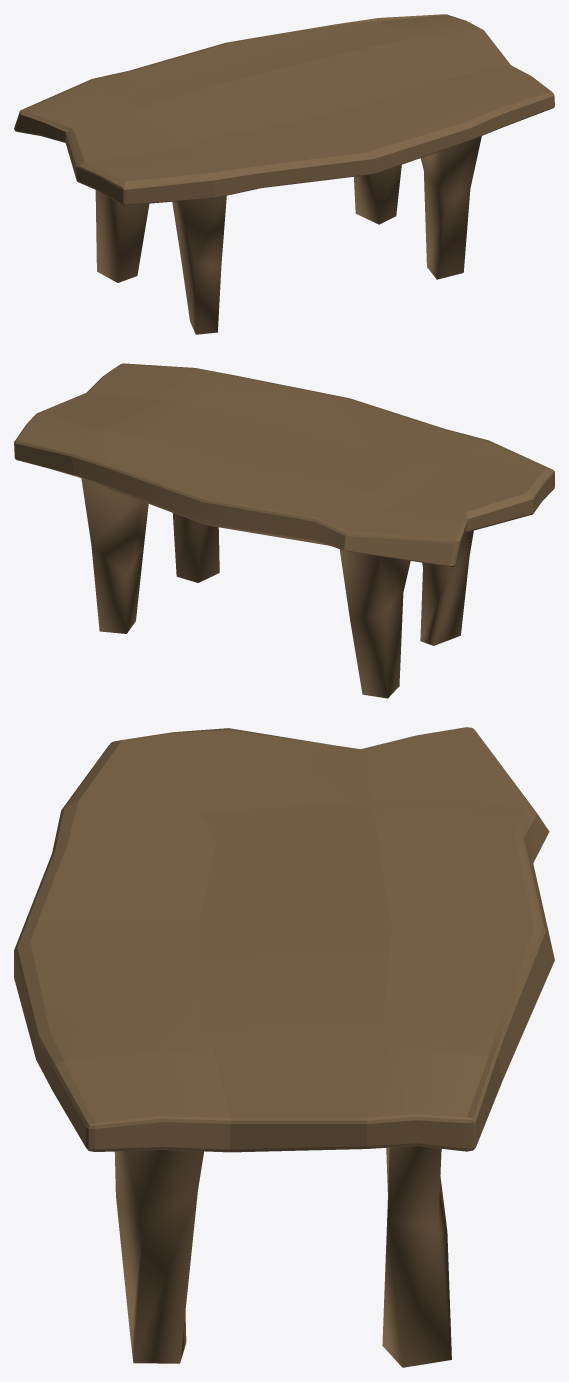
Rendered from table.fbx.
3 views of the same model, one above another, from view 1: azimuth 30°, elevation 25°; view 2: azimuth 150°, elevation 25°; view 3: azimuth 270°, elevation 25° (orthographic). The views are drawn at different scales.
Visible parts, largest first — view 1: table; view 2: table; view 3: table.
Part boxes in pixels (<box>): table: <box>14,14,554,334</box>; table: <box>14,363,554,698</box>; table: <box>14,727,554,1367</box>.
Size of the model in its own units: 1038 by 406 by 602.
